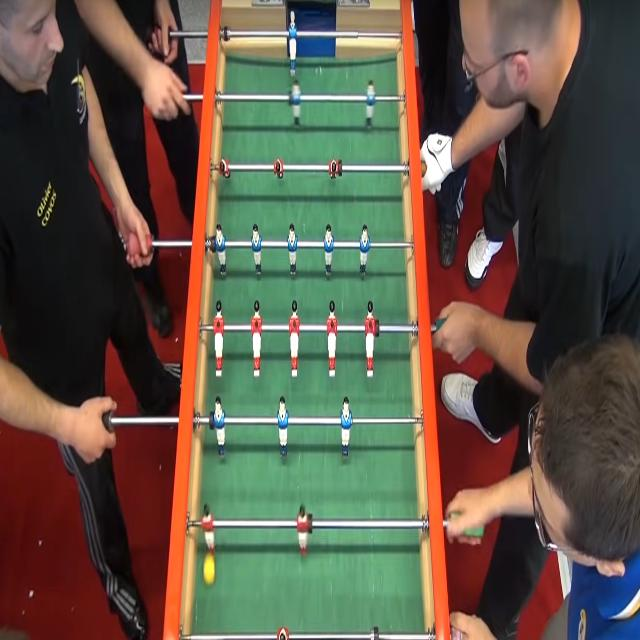ball: (202, 560, 221, 588)
